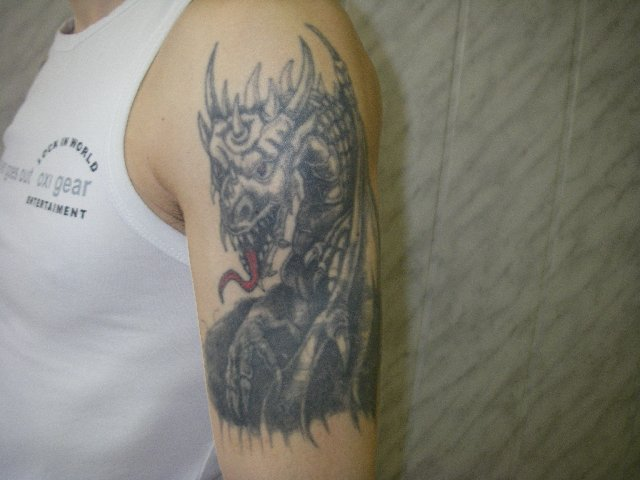tatu6_drakon: (185, 13, 403, 449)
